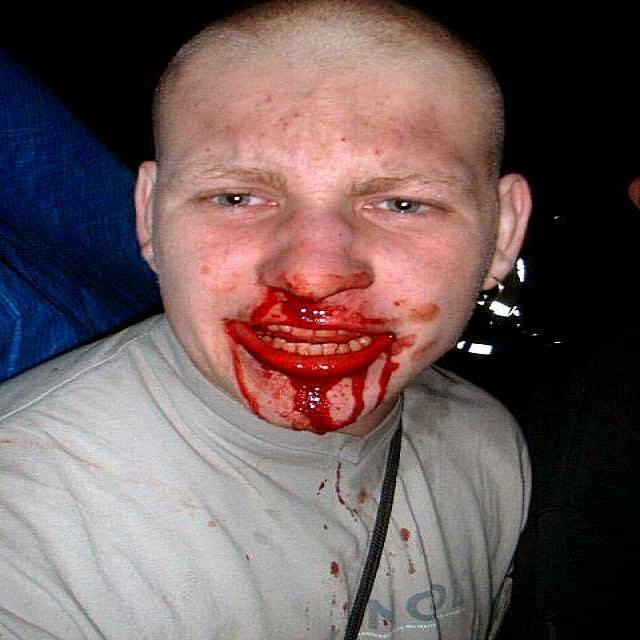flood: (186, 269, 426, 439)
